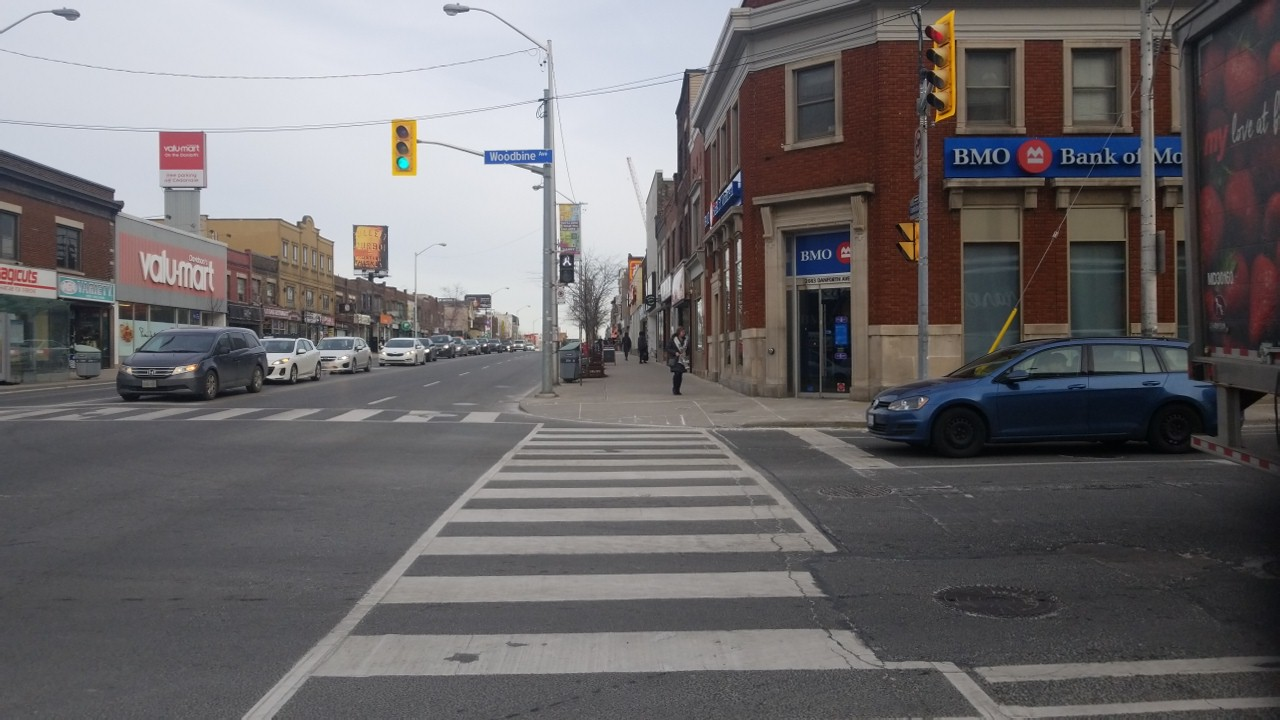light: (557, 249, 575, 284)
